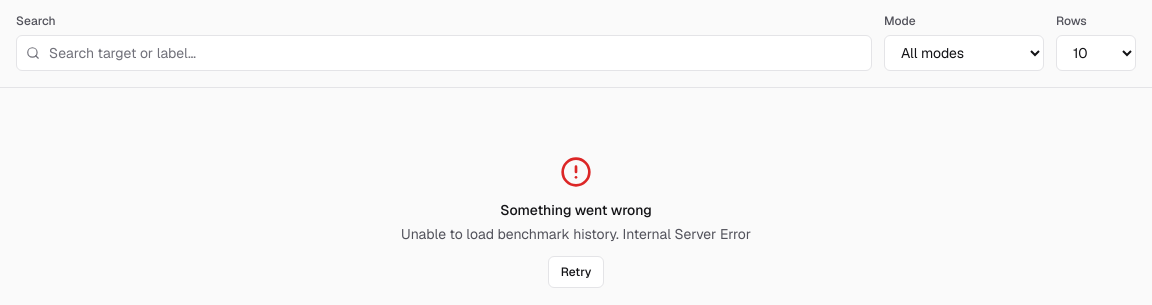
Test: BenchmarkHistoryPanel › shows an error state with a working retry button on failure
Expected: the message is shown, [401, 156, 751, 288]
Expected: the message shows "Unable to load benchmark history.", [401, 225, 751, 243]
Click the button "Retry" at (576, 272), box [548, 256, 604, 288]
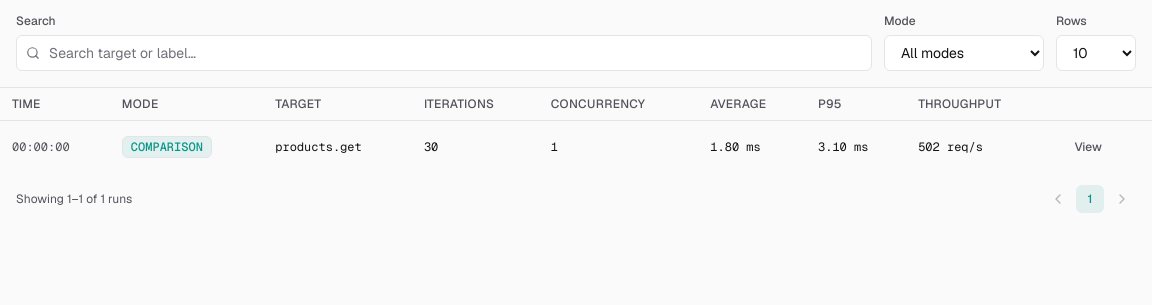
Expected: the text "products.get" is shown, [263, 120, 412, 173]
